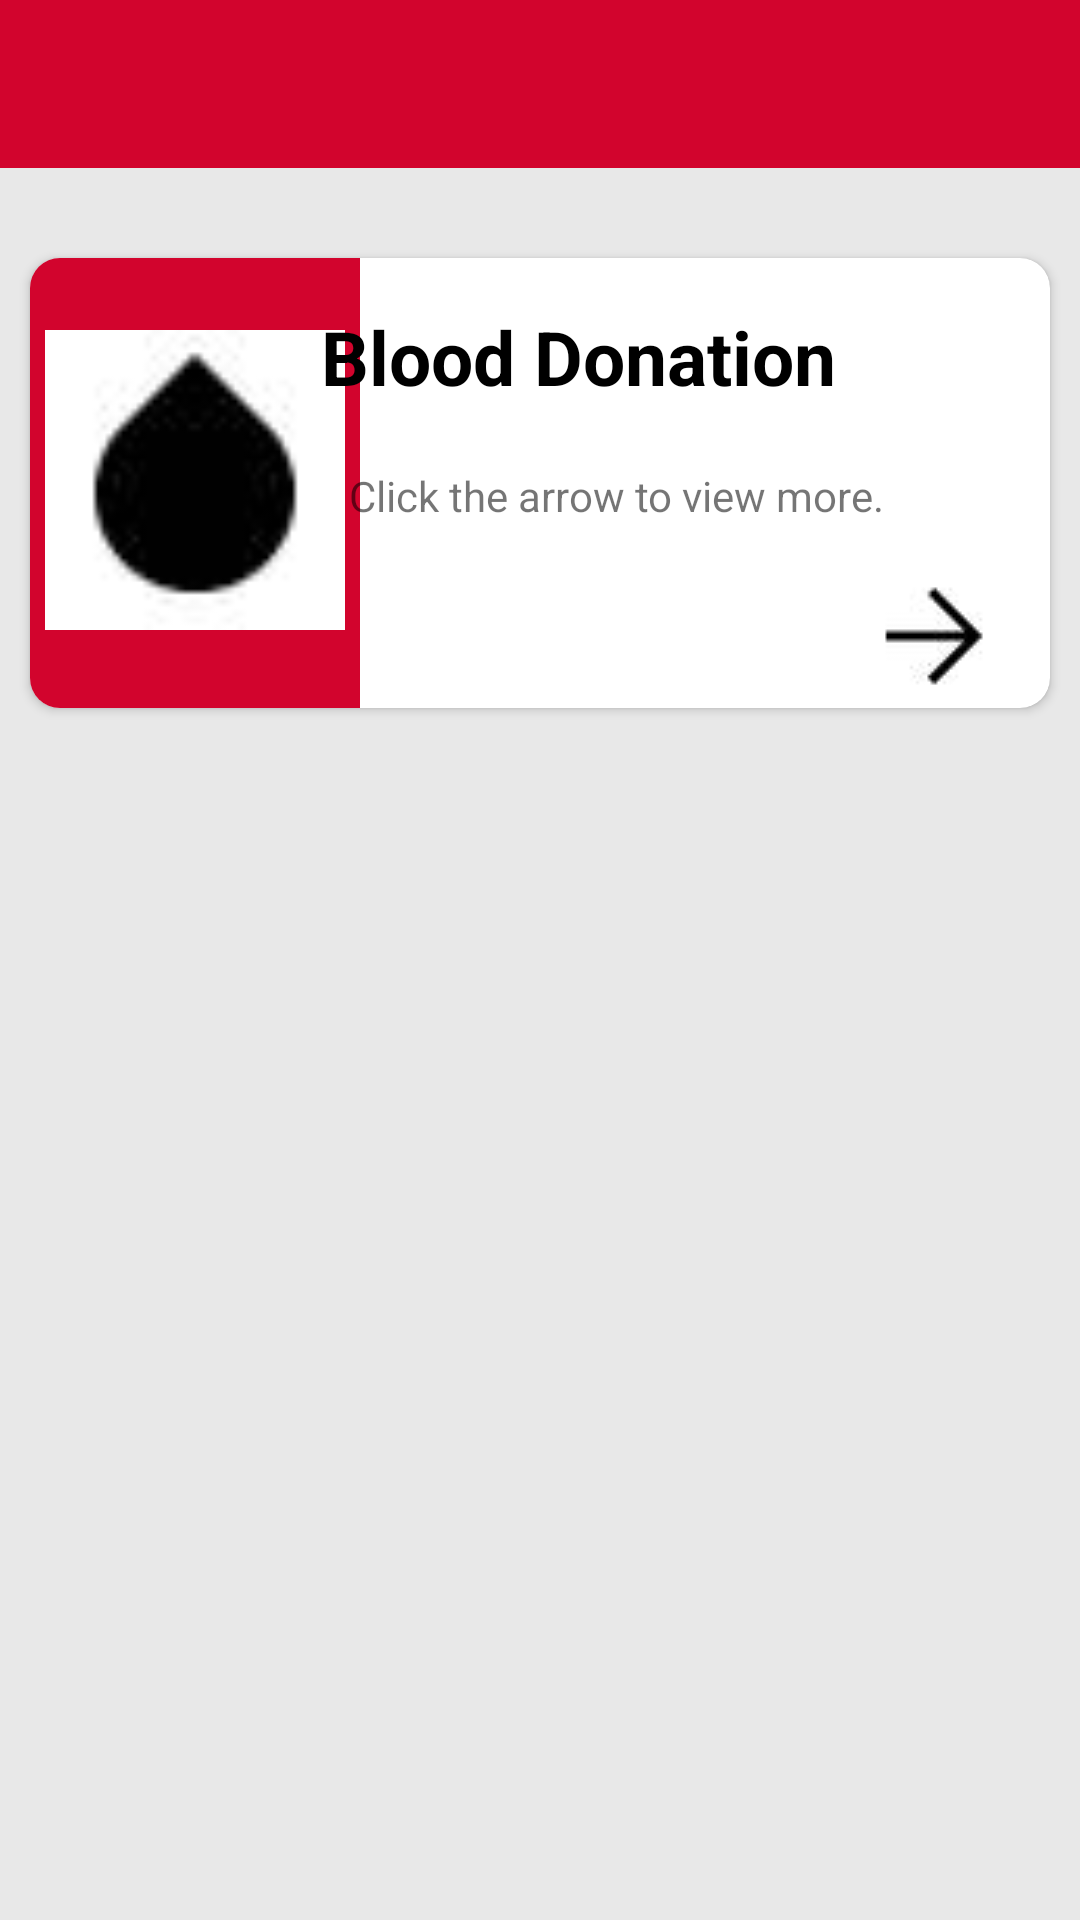

Where icons sit on this 1080px×1920px app screen, as (x1, y1, x2, y2):
arrow forward: (885, 587, 983, 685)
